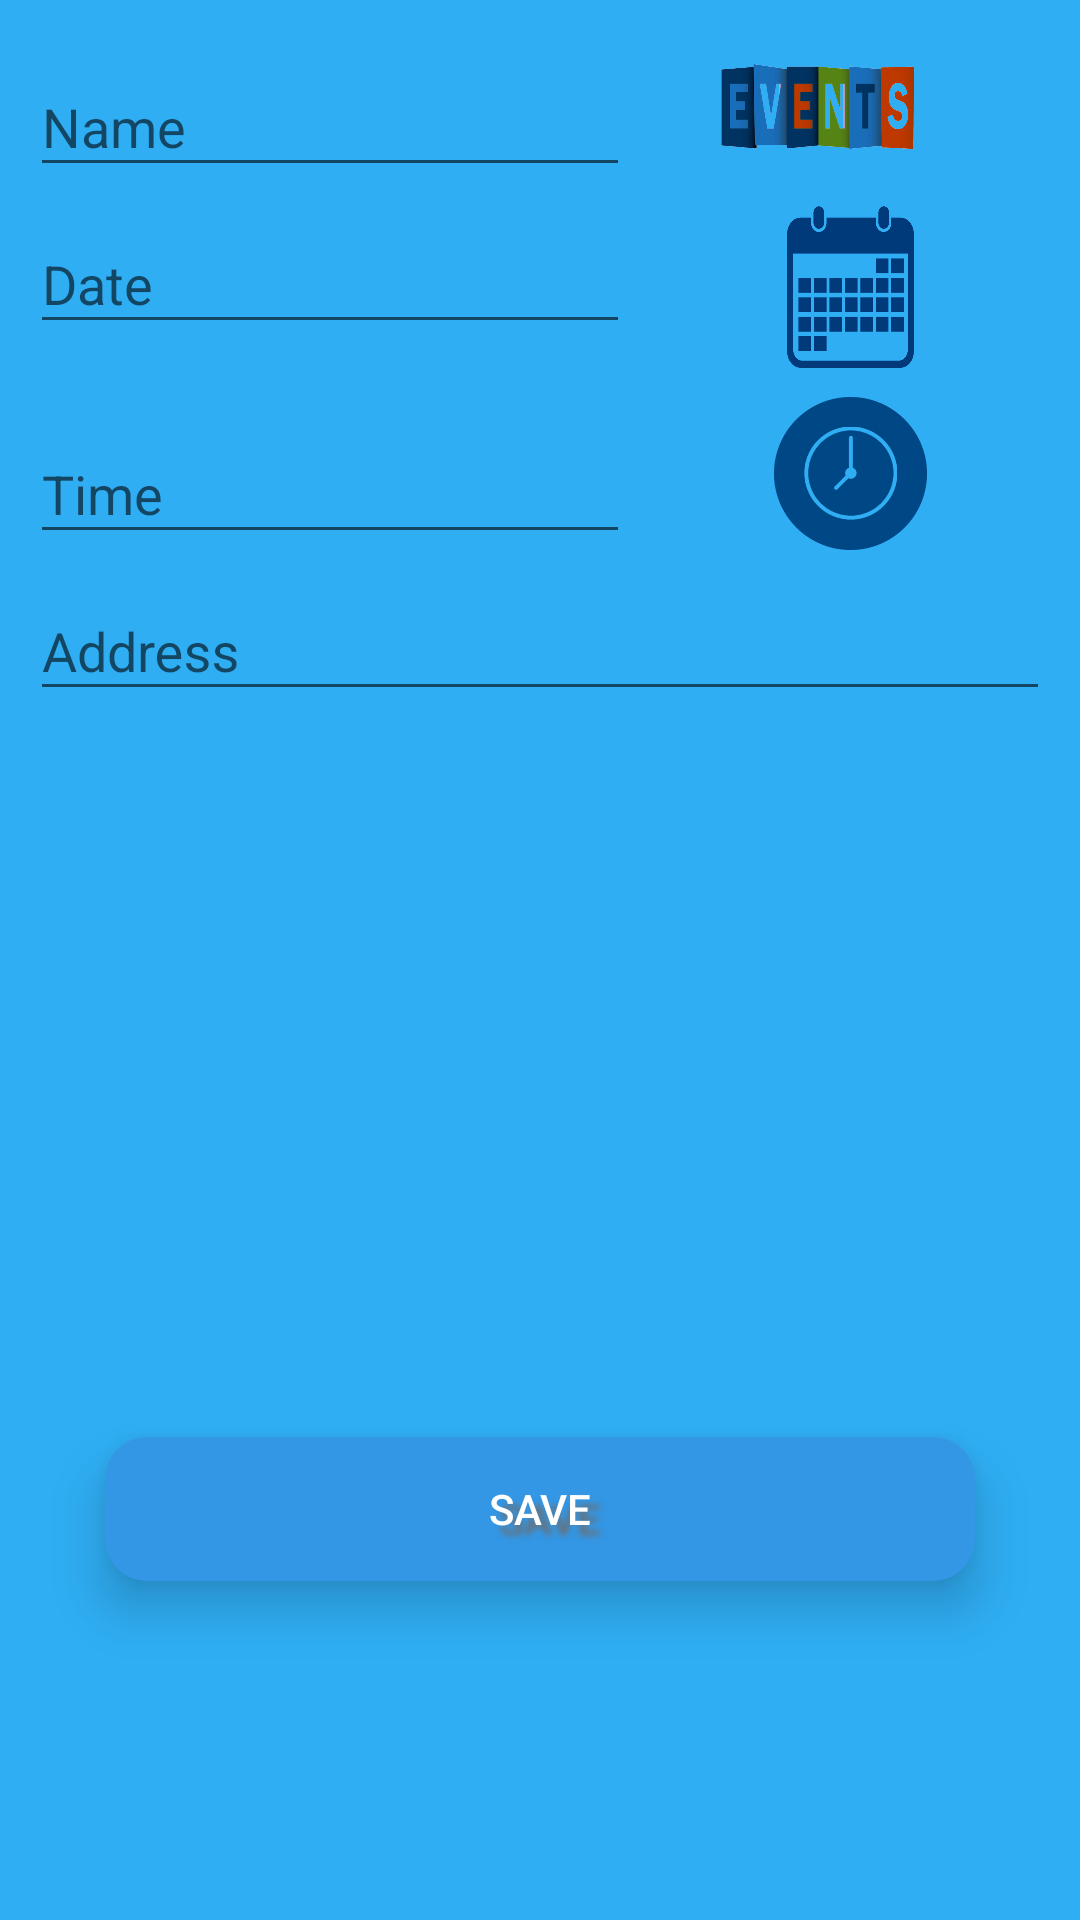

Where to tap for icons on this 1080 x 1920 app screen, as (x=x, y=y):
calendarblue: (x=850, y=287)
